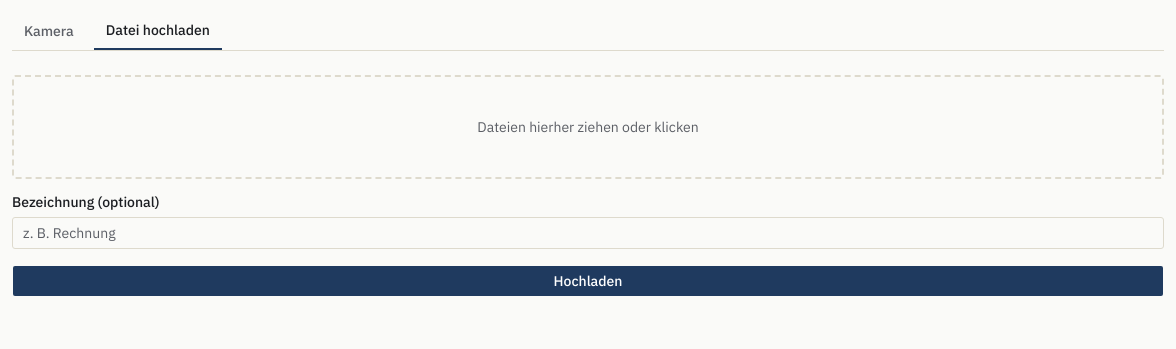
Test: UploadForm › shows a no_file error when submitting without selecting a file
What coordinates should you click on to do the following:
click the button "Hochladen"
I would click on:
 (588, 281)
Its box is [12,265,1164,297].
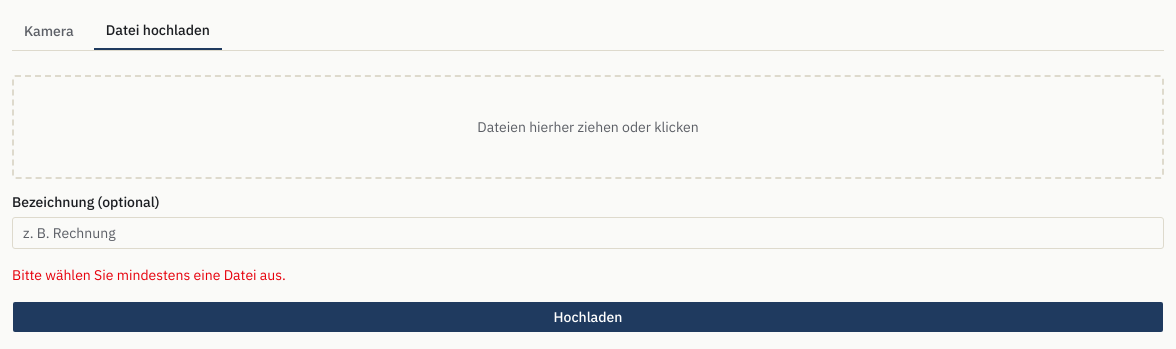
Check: the text "Bitte wählen Sie mindestens eine Datei aus." is shown, box [12,266,286,284]
